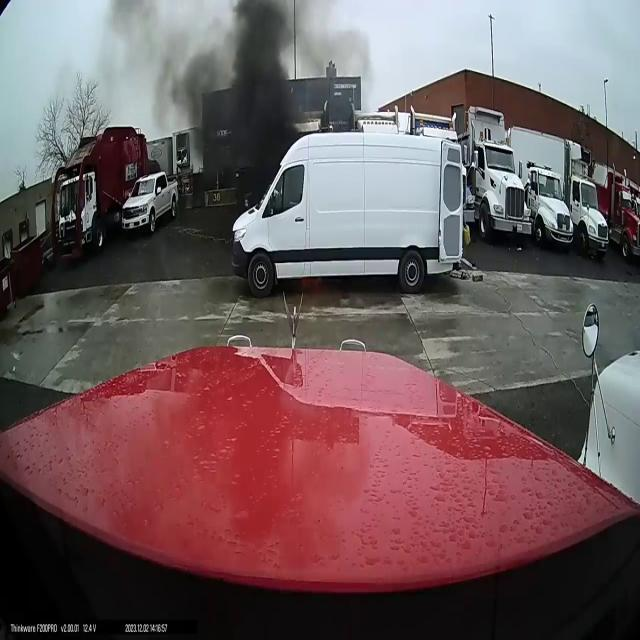Smoke: (147, 0, 302, 179)
